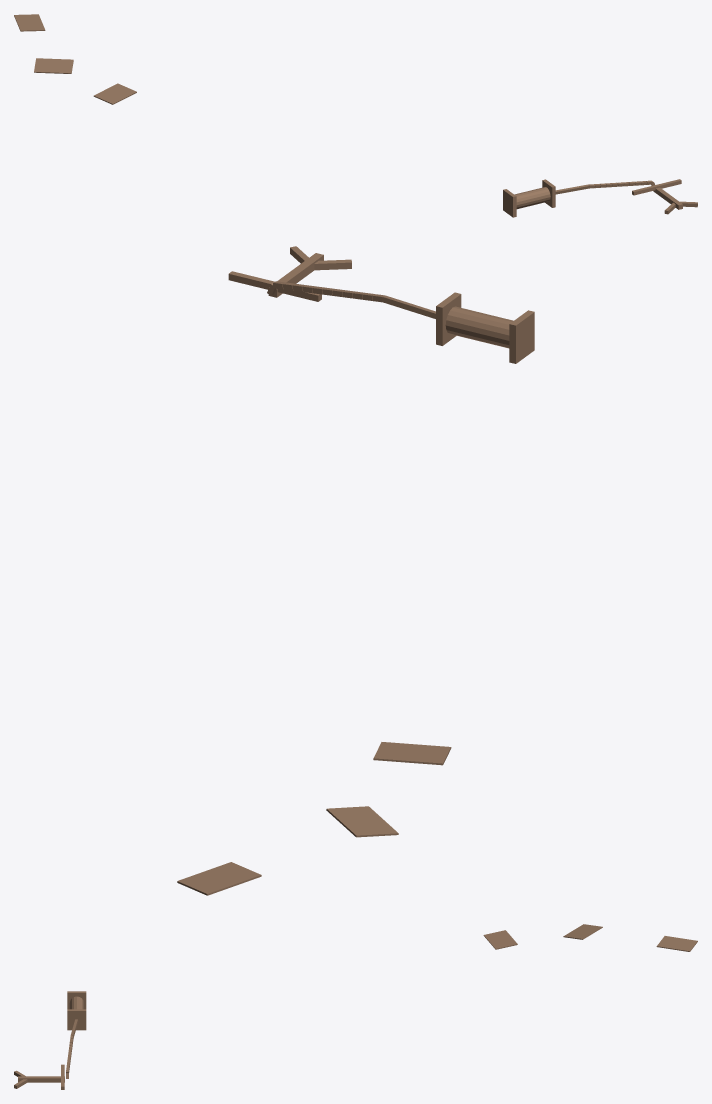
The model's file is debris_visual.glb.
3 renders of one model, top to bottom at view 1: azimuth 30°, elevation 25°; view 2: azimuth 150°, elevation 25°; view 3: azimuth 270°, elevation 25°, orthographic. The views are drawn at different scales.
Parts seen in each view (by area): view 1: debris; view 2: debris; view 3: debris.
Boxes of the visible parts, x1,y1,x2,y2 form: debris: [14, 14, 697, 217]; debris: [177, 246, 534, 895]; debris: [14, 924, 697, 1089].
Bounding box in the file's own units: 16.9 × 1.23 × 29.05.
